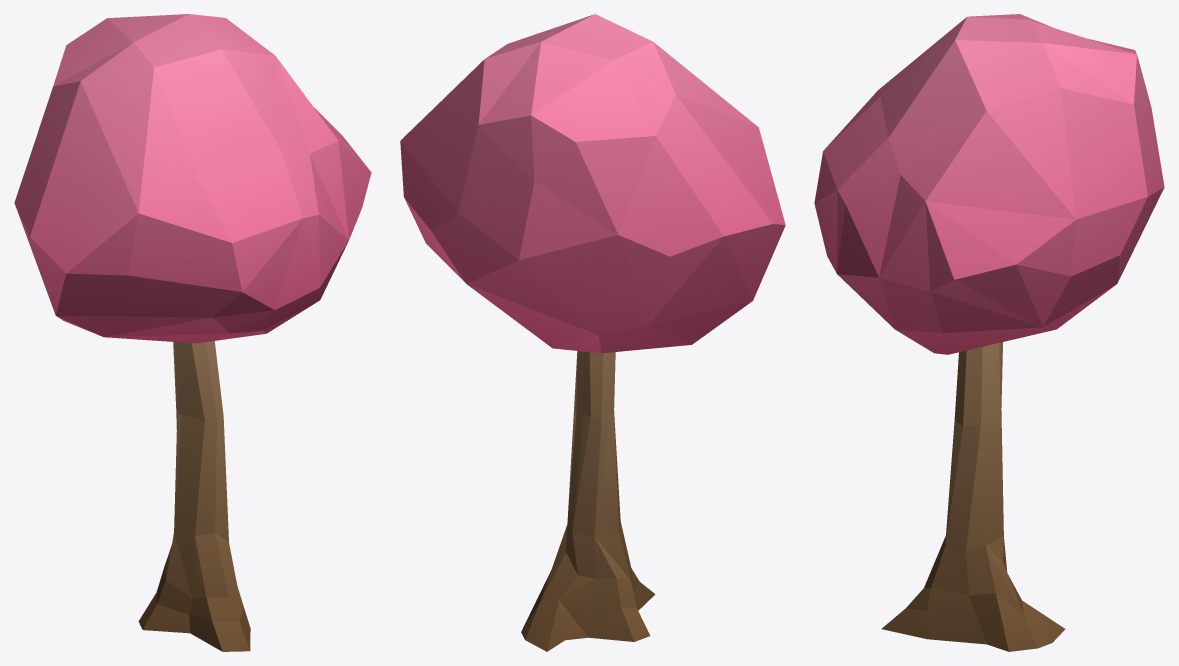
File: tree_beech_pink.fbx
3 views of the same model, side by side, from view 1: azimuth 30°, elevation 25°; view 2: azimuth 150°, elevation 25°; view 3: azimuth 270°, elevation 25° (orthographic). The views are drawn at different scales.
Visible parts, largest first — view 1: tree_beech_pink; view 2: tree_beech_pink; view 3: tree_beech_pink.
Part boxes in pixels (left/top/right/bottom): tree_beech_pink: left=14, top=14, right=371, bottom=651; tree_beech_pink: left=400, top=14, right=785, bottom=651; tree_beech_pink: left=814, top=14, right=1164, bottom=651.
Size of the model in its own units: 4.42 by 7.33 by 3.91.
1 material, 1 textured.
